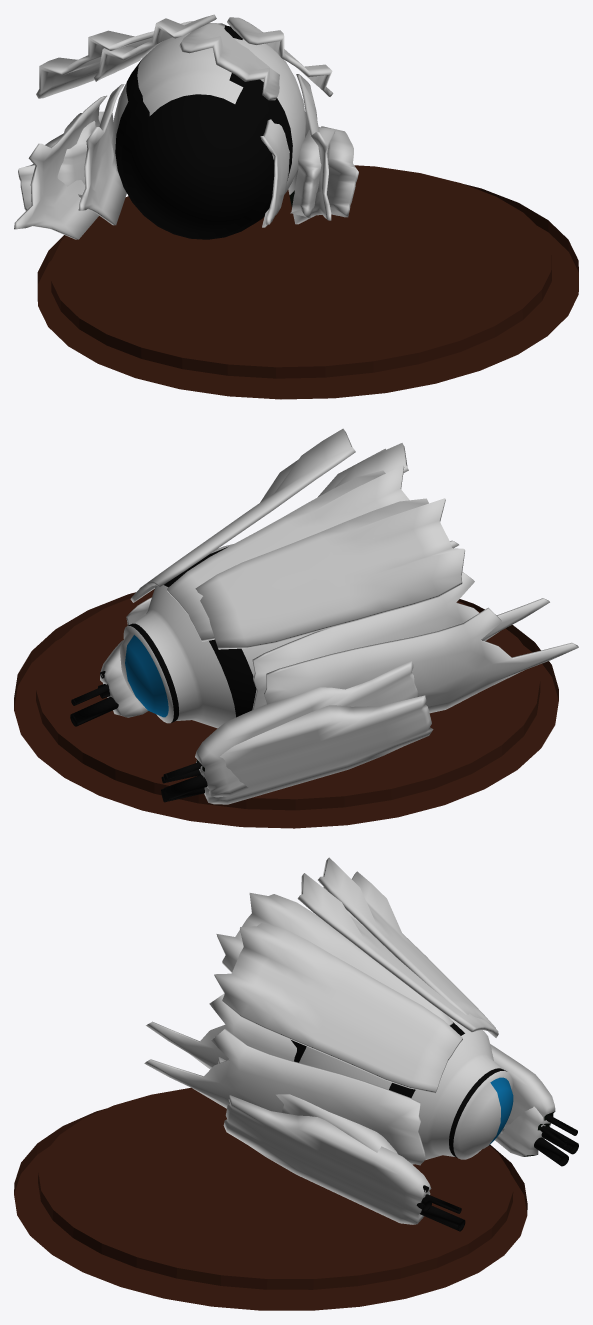
The model's file is Alien1.obj.
3 views of the same model, one above another, from view 1: azimuth 30°, elevation 25°; view 2: azimuth 150°, elevation 25°; view 3: azimuth 270°, elevation 25° (orthographic). The views are drawn at different scales.
Parts seen in each view (by area): view 1: Circle, Grid.004_Grid.005, Grid.005_Grid.006, Grid.003, Grid.002, Grid.000, Grid.001, Grid.010_Grid.012; view 2: Circle, Grid.004_Grid.005, Grid.003, Grid.005_Grid.006, Grid.010_Grid.012, Grid.002; view 3: Circle, Grid.004_Grid.005, Grid.003, Grid.002, Grid.001, Grid.010_Grid.012, Grid.000.
Boxes of the visible parts, left/top/right/bottom form: Circle: left=37, top=165, right=578, bottom=399; Grid.004_Grid.005: left=57, top=14, right=358, bottom=239; Grid.005_Grid.006: left=14, top=95, right=106, bottom=239; Grid.003: left=36, top=21, right=192, bottom=98; Grid.002: left=179, top=23, right=279, bottom=100; Grid.000: left=290, top=127, right=335, bottom=218; Grid.001: left=260, top=119, right=289, bottom=227; Grid.010_Grid.012: left=18, top=133, right=63, bottom=210; Circle: left=14, top=589, right=558, bottom=828; Grid.004_Grid.005: left=70, top=428, right=549, bottom=800; Grid.003: left=195, top=498, right=464, bottom=649; Grid.005_Grid.006: left=264, top=607, right=578, bottom=713; Grid.010_Grid.012: left=161, top=695, right=433, bottom=804; Grid.002: left=317, top=443, right=408, bottom=497; Circle: left=14, top=1088, right=527, bottom=1310; Grid.004_Grid.005: left=144, top=873, right=578, bottom=1231; Grid.003: left=318, top=857, right=495, bottom=1028; Grid.002: left=216, top=893, right=453, bottom=1025; Grid.001: left=146, top=993, right=296, bottom=1069; Grid.010_Grid.012: left=495, top=1106, right=568, bottom=1166; Grid.000: left=218, top=1057, right=431, bottom=1211.
Size of the model in its own units: 7.27 by 3.87 by 7.13.
